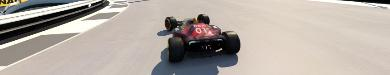Car: (164, 13, 240, 61)
obstacles-Borders: (0, 0, 108, 45)
